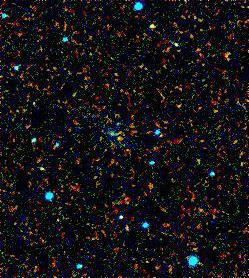star: (103, 122, 133, 152)
